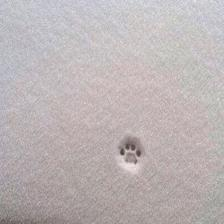cat: (117, 143, 144, 167)
